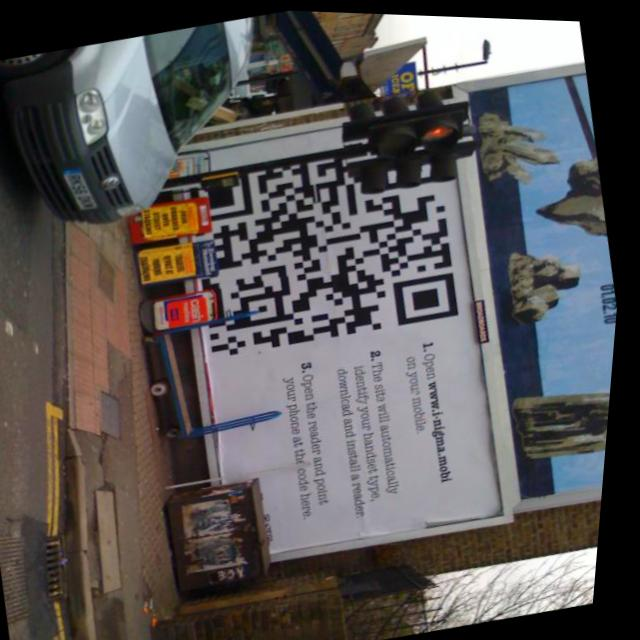qrcode: (182, 131, 475, 364)
